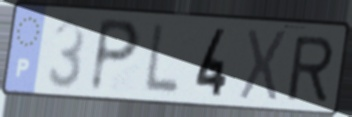3: (46, 15, 89, 91)
4: (192, 26, 230, 99)
L: (140, 21, 183, 99)
P: (86, 15, 144, 96)
R: (284, 34, 336, 103)
X: (236, 26, 291, 106)
